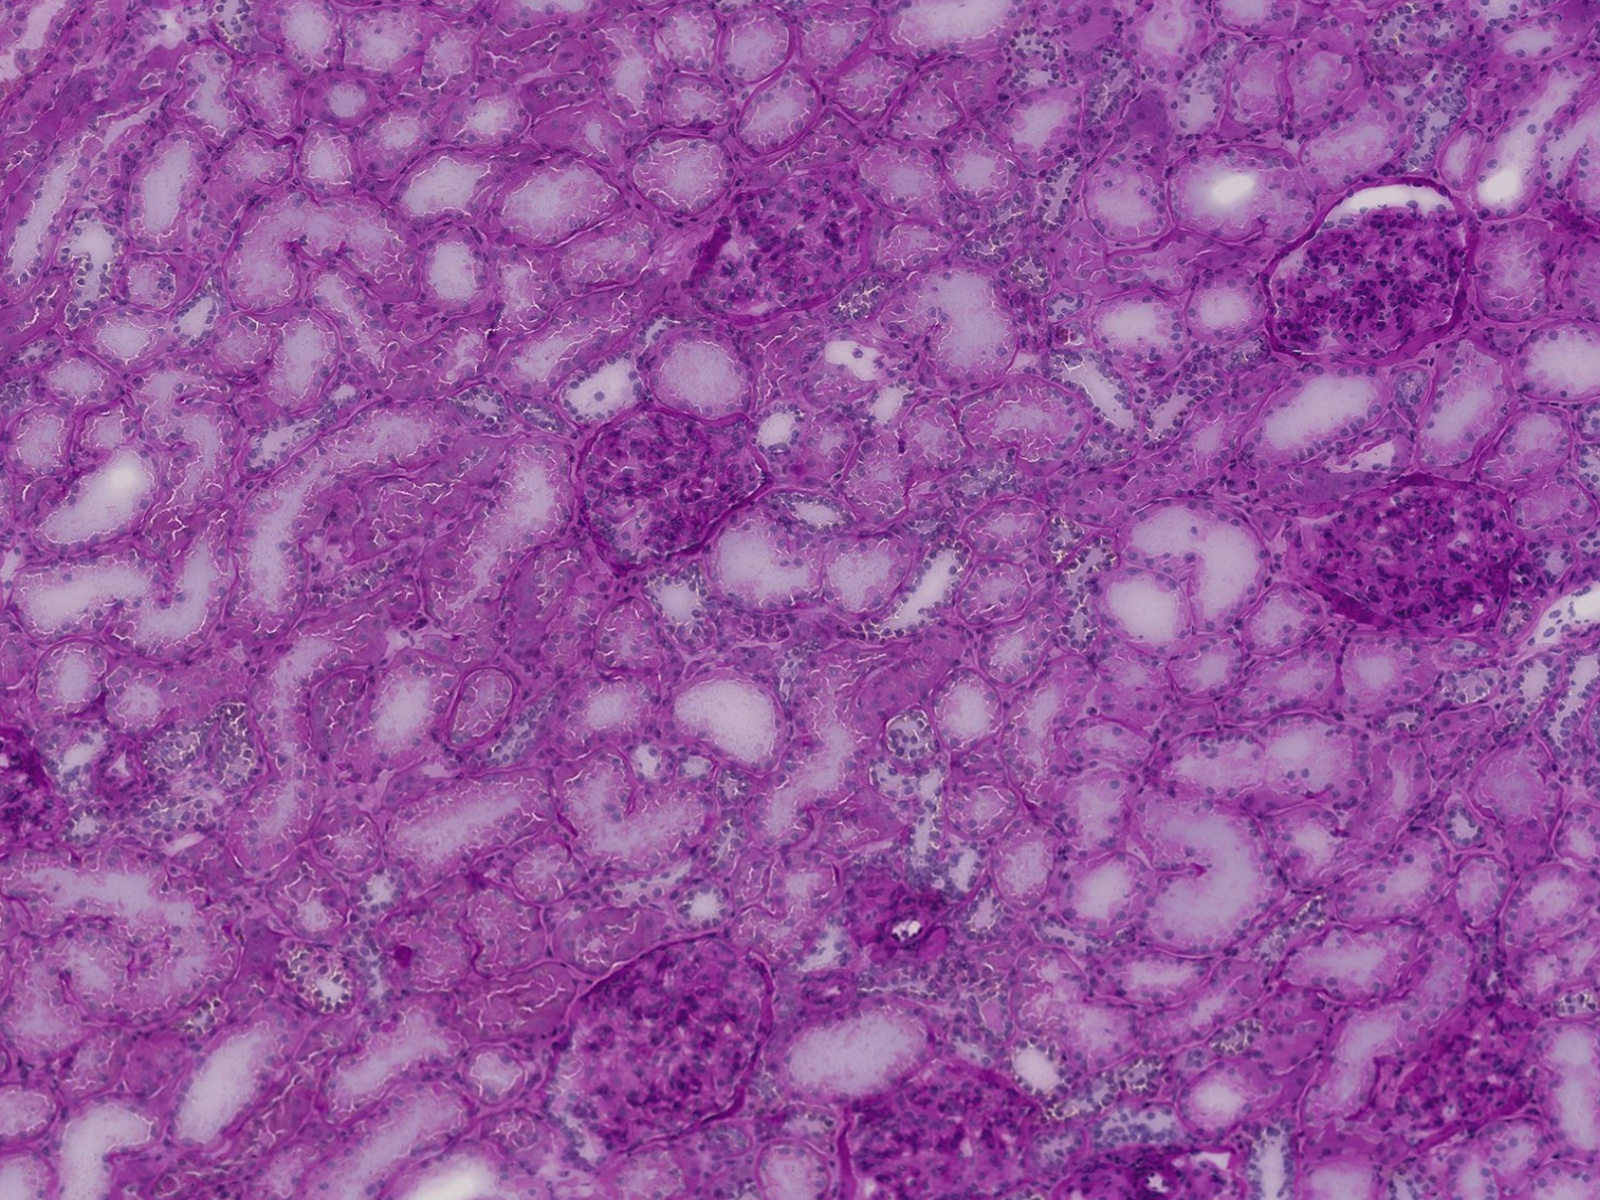Glomeruli: (546, 929, 784, 1158), (1271, 179, 1483, 379), (1306, 473, 1529, 642), (559, 405, 771, 576), (839, 1053, 1068, 1200), (680, 170, 883, 332), (1357, 1002, 1551, 1146), (1085, 1129, 1267, 1200), (1, 726, 60, 870)
